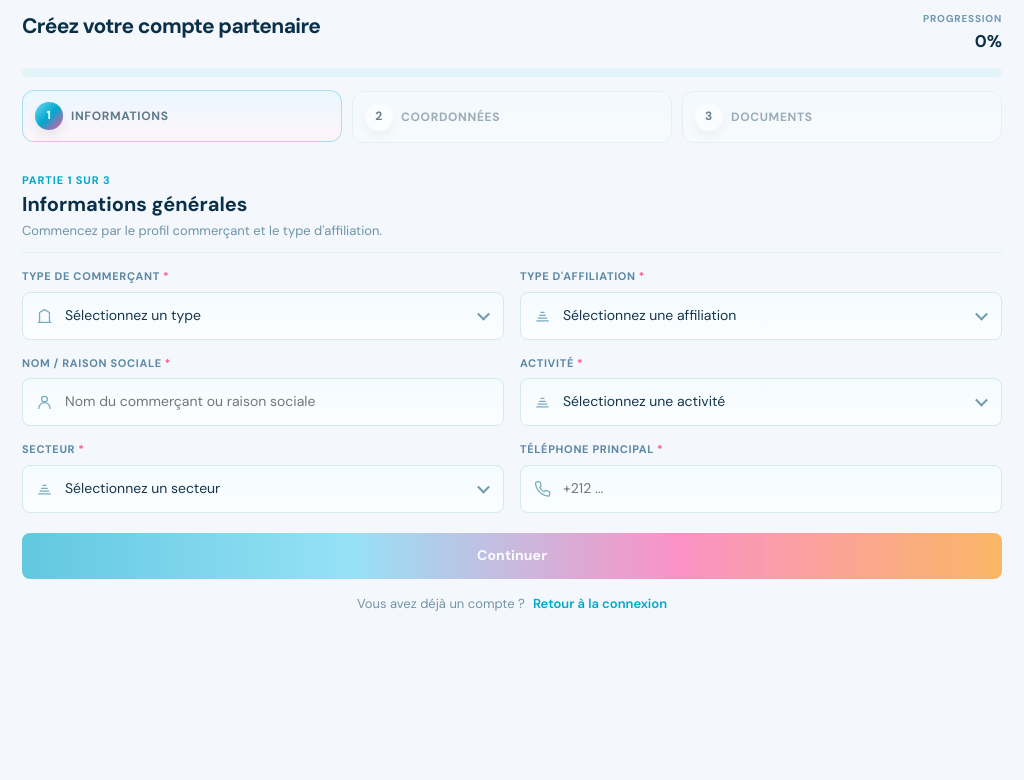
Test: Register › change le libelle du champ d'identite selon le type de commercant (personne morale)
Step 1. Select "Personne morale" in the dropdown labelled "Type de commerçant*" → (263, 316), box [22,292,504,340]
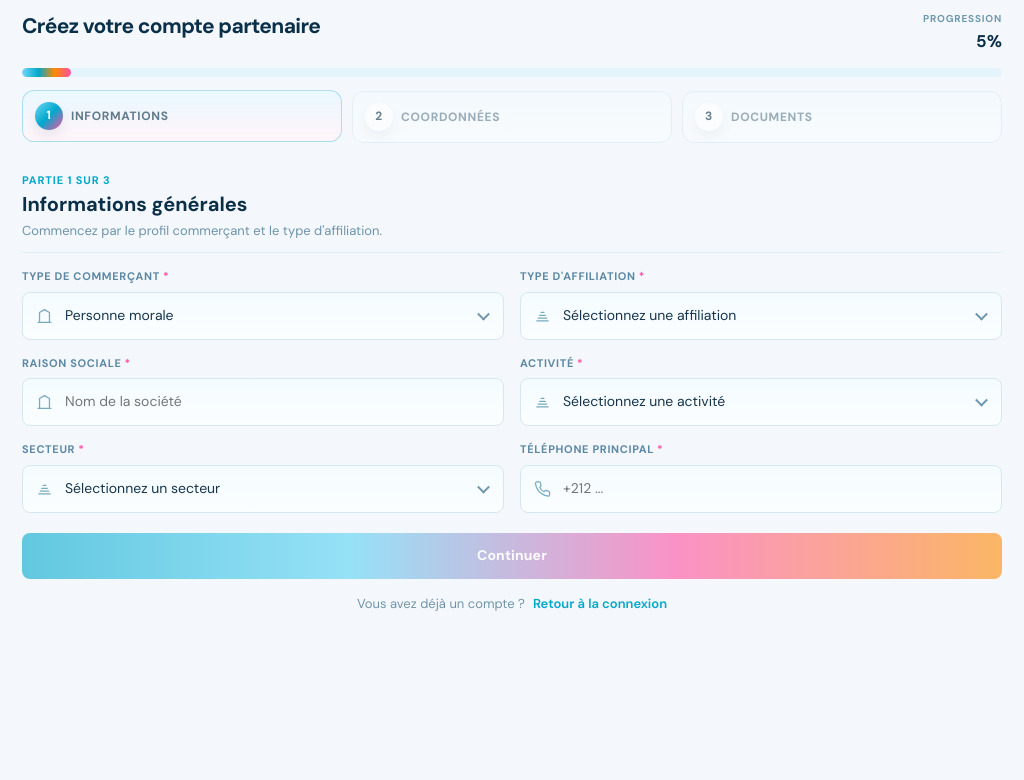
Expected: the field labelled "Raison sociale*" is shown, [22,378,504,426]
